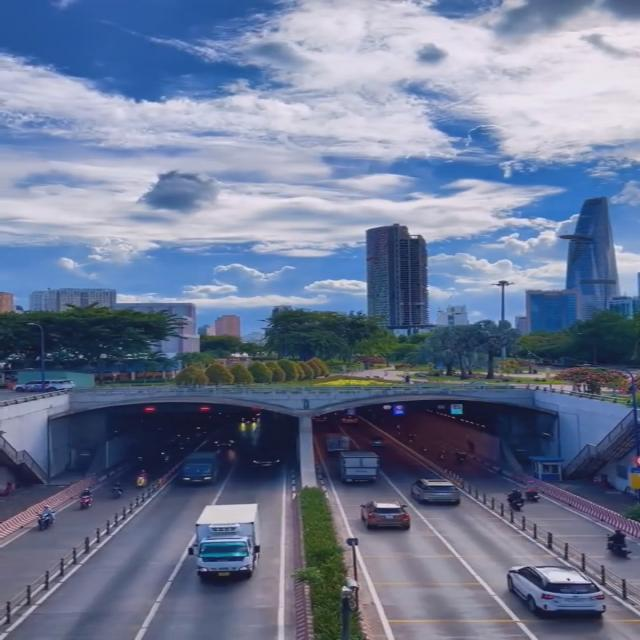car: (508, 564, 606, 622), (362, 500, 411, 532), (411, 476, 461, 506)
motorbike: (605, 529, 632, 559), (36, 506, 56, 530), (523, 480, 541, 503), (508, 488, 524, 510), (79, 488, 92, 508)
truck: (195, 503, 258, 581), (180, 452, 225, 487), (340, 450, 379, 485)
